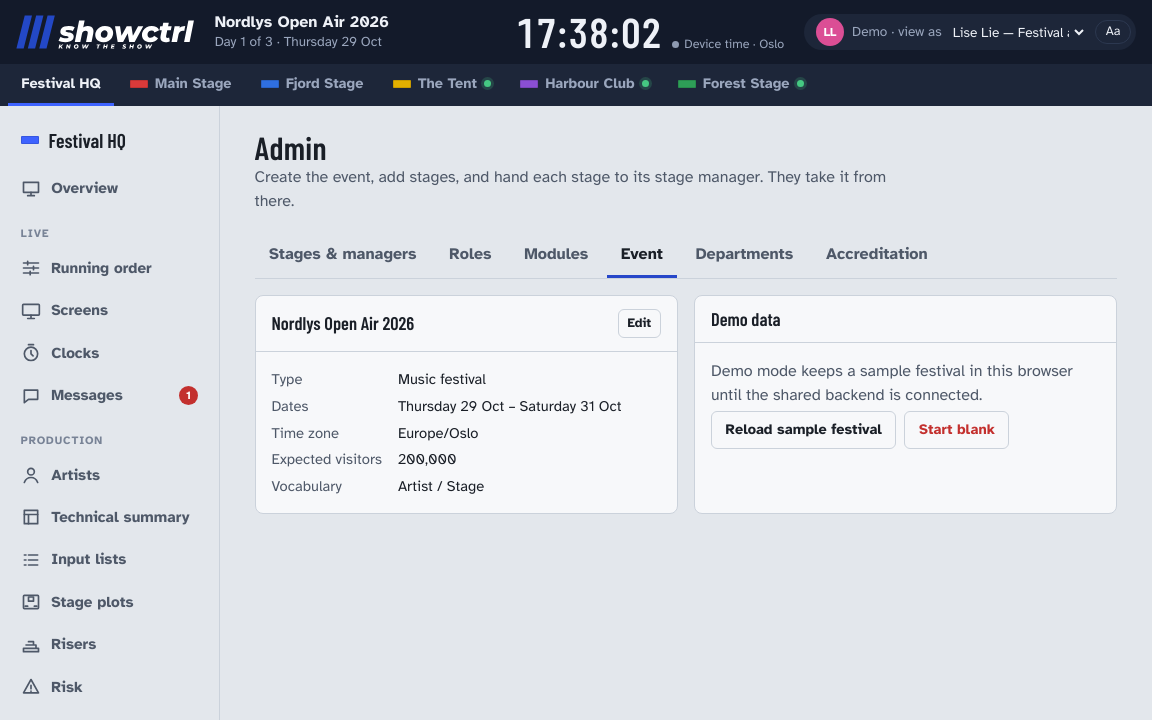
Test: admin › switches the event to a conference and the vocabulary follows
The width and height of the screenshot is (1152, 720).
Click the button "Edit" at (639, 323), box [618,309,661,338]
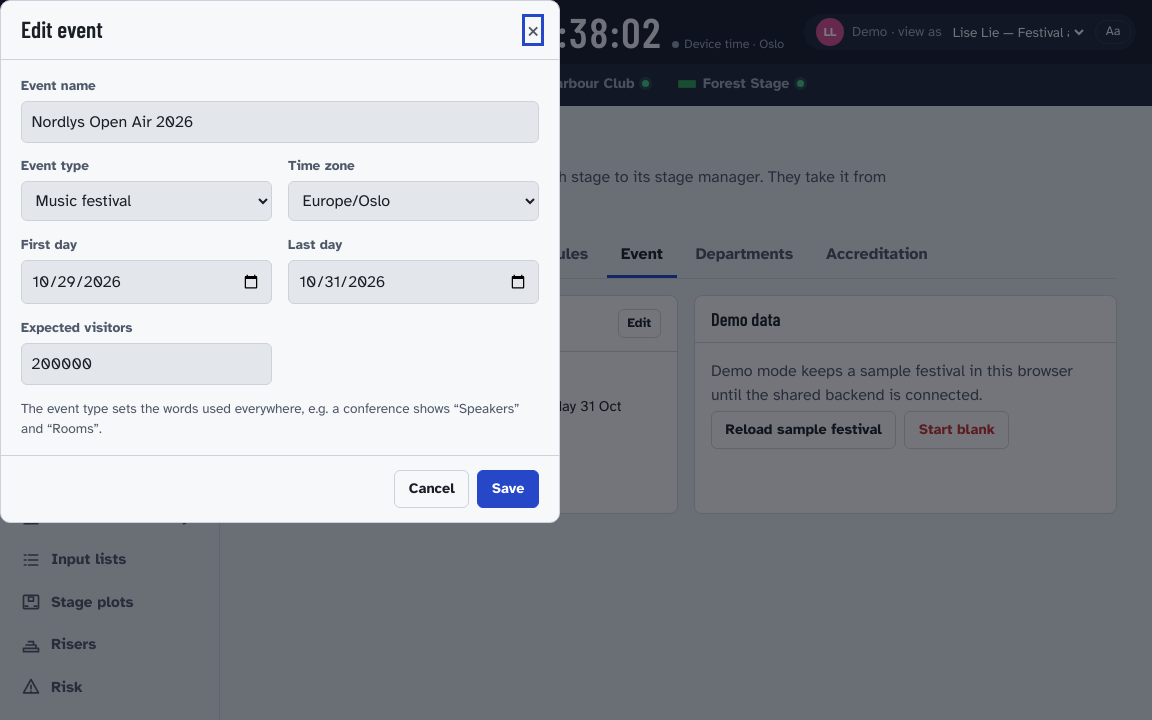
Select "Conference" in the dropdown labelled "Event type" at (146, 202), box [21,182,272,222]
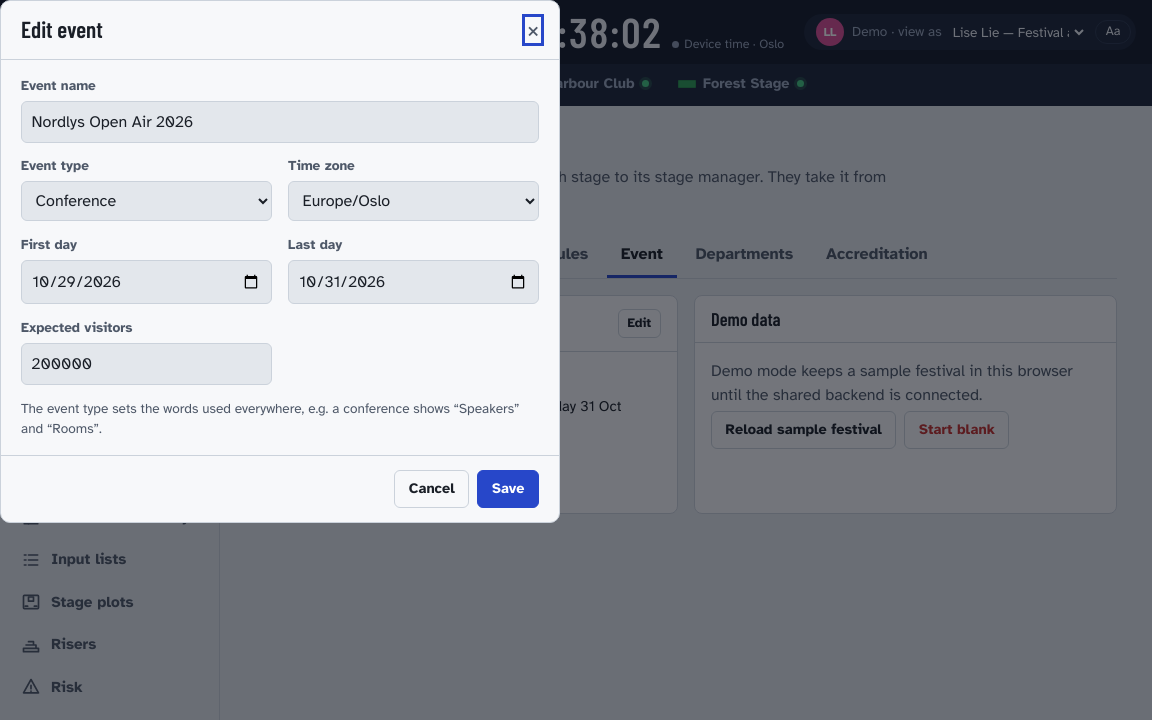
Click the button "Save" at (508, 489), box [477,470,539,508]
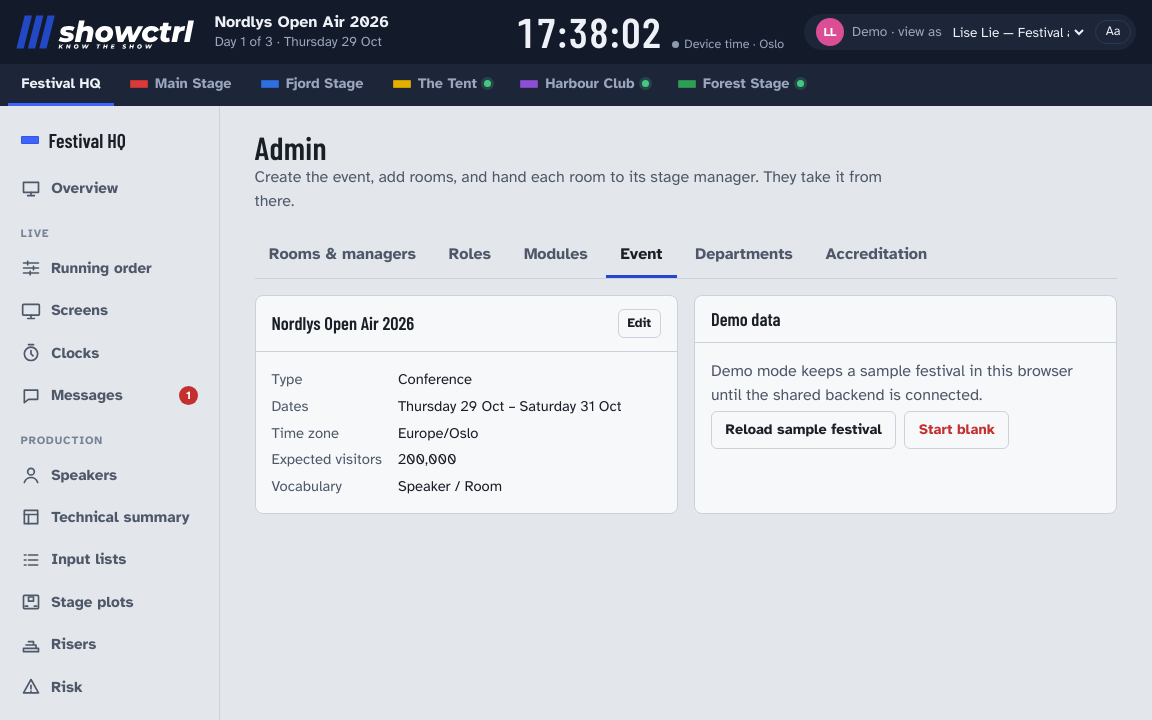
Now the text "Speakers" is shown, box [51,464,117,486]
Now the link "Speakers" is shown, box [21,465,117,485]
